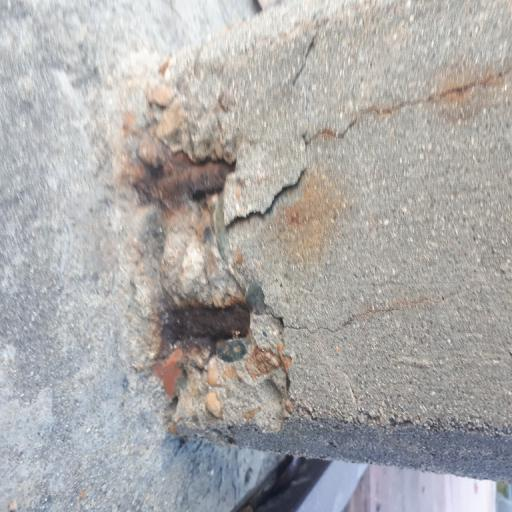exposed_rebar: (131, 132, 232, 208), (162, 304, 250, 343)
